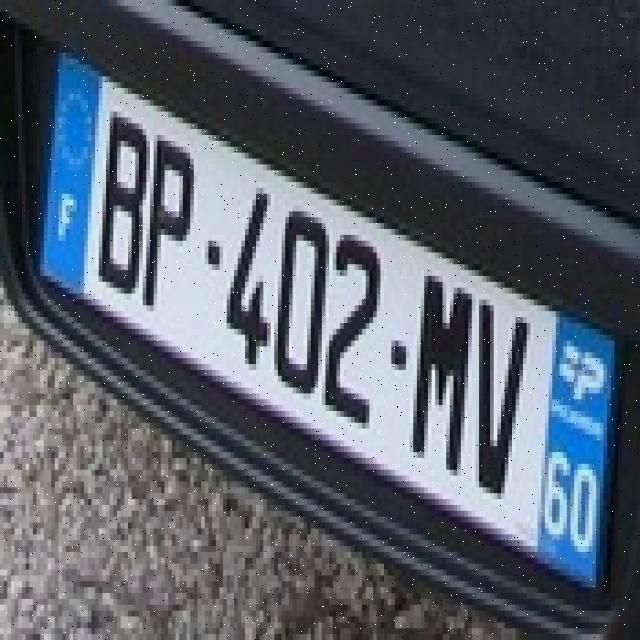LicensePlate: (33, 25, 629, 624)
